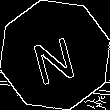N_N: (29, 26, 81, 84)
